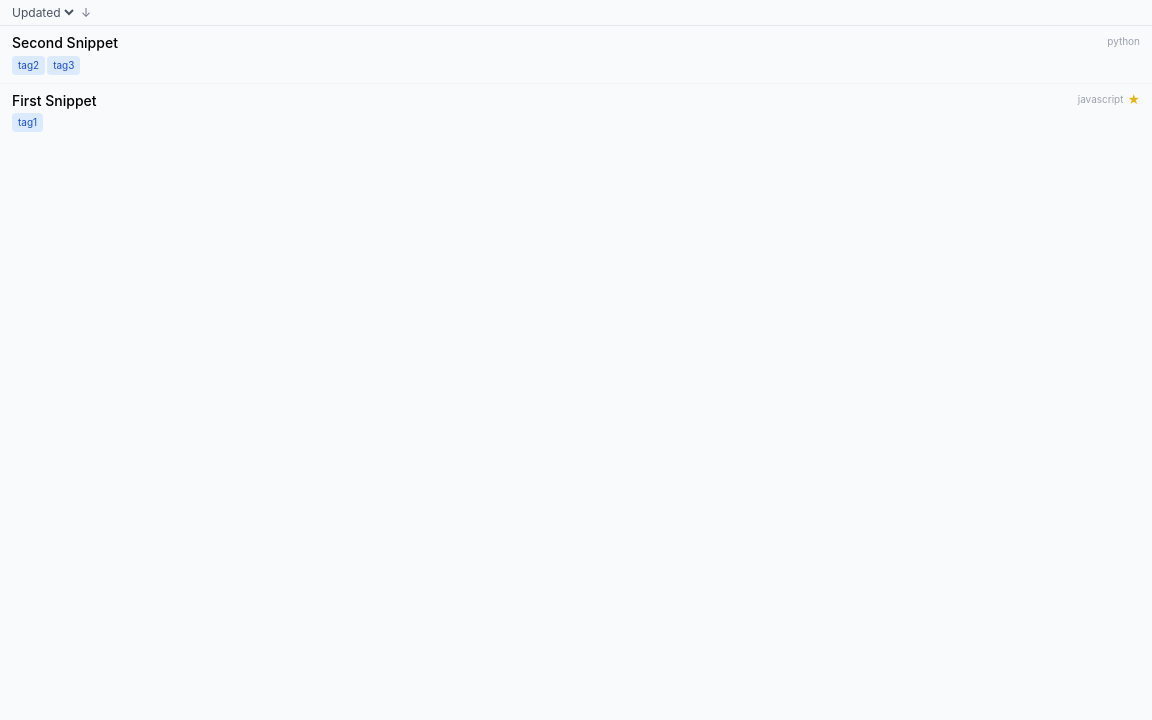
Test: SnippetList › 컨텍스트 메뉴 › 바깥을 클릭하면 닫힌다
Right-click the heading "First Snippet": [54, 100] box [12,92,96,108]
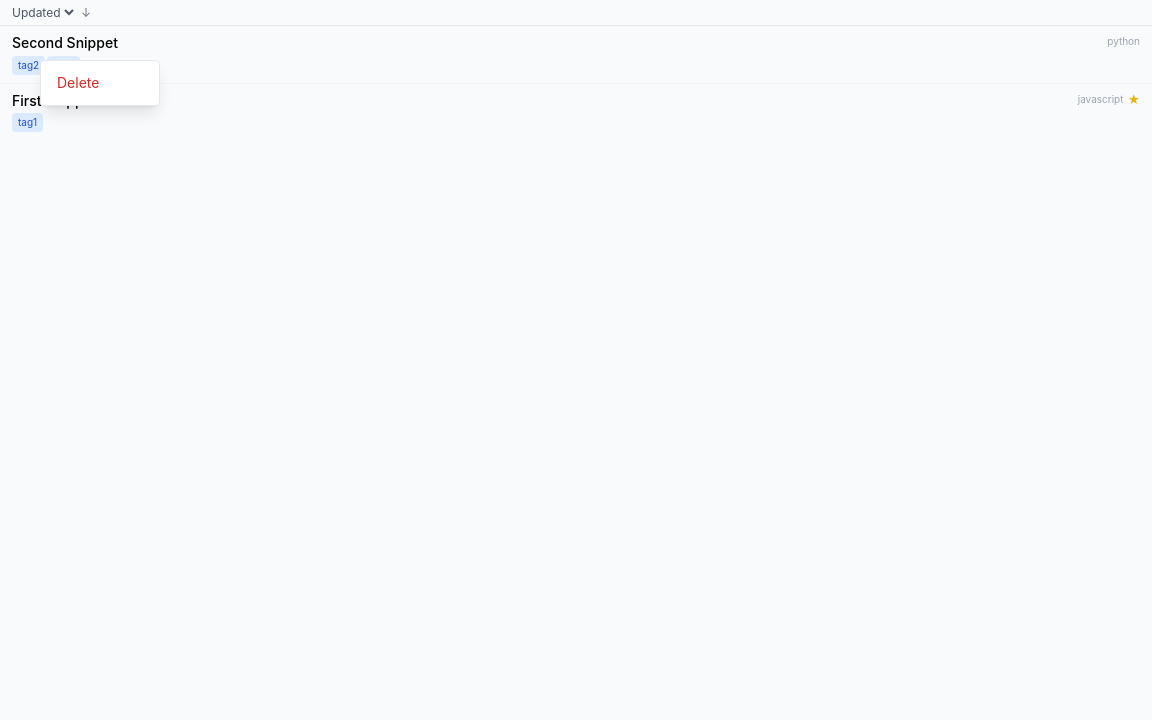
Click the element that starts with "Second Snippet": [576, 360] box [0,0,1151,719]
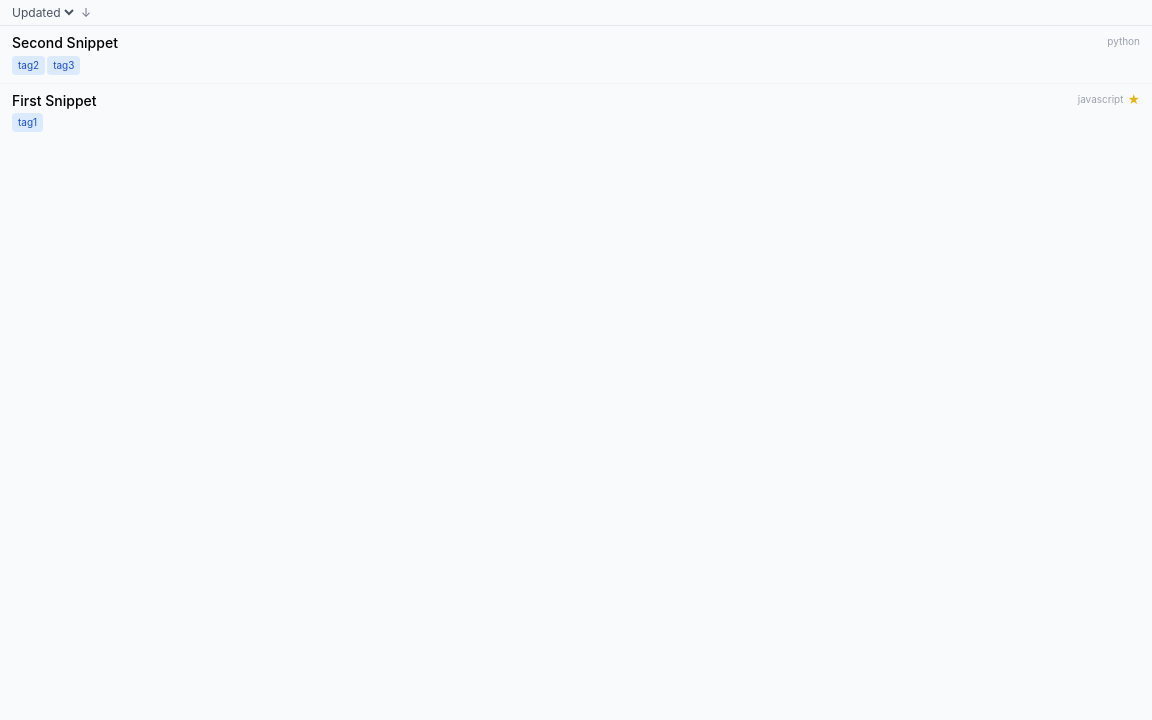
Result: the menu is gone
